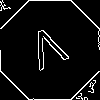V: (25, 25, 74, 80)
